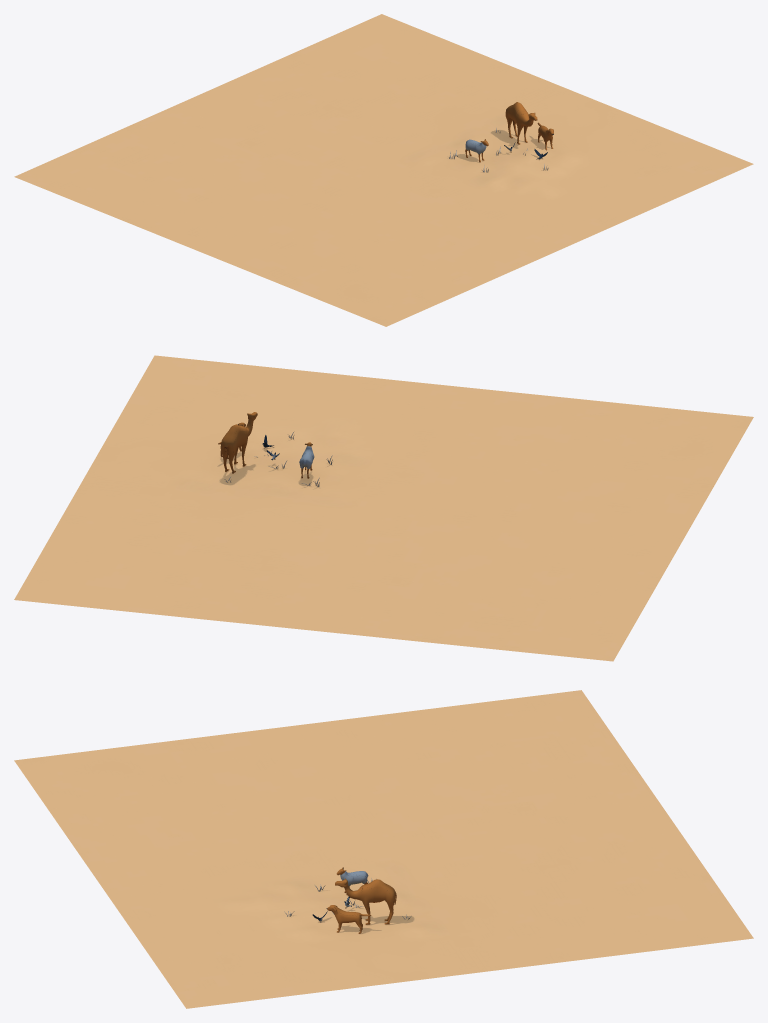
3 renders of one model, top to bottom at view 1: azimuth 30°, elevation 25°; view 2: azimuth 150°, elevation 25°; view 3: azimuth 270°, elevation 25°, orthographic. The views are drawn at different scales.
Parts seen in each view (by area): view 1: Plane, droma; view 2: Plane, droma; view 3: Plane, droma.
Part boxes in pixels (<box>): Plane: <box>14,14,753,326</box>; droma: <box>505,102,537,144</box>; Plane: <box>14,355,753,661</box>; droma: <box>220,412,257,473</box>; Plane: <box>14,690,753,1008</box>; droma: <box>335,878,396,924</box>.
Size of the model in its own units: 127349 by 9139 by 124934.
Materials: 7 (7 with a texture image).
